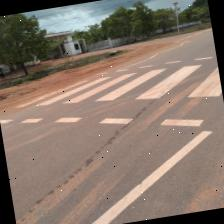crossing: (131, 62, 207, 103), (91, 66, 171, 104), (59, 71, 141, 106), (33, 75, 115, 107), (184, 66, 222, 102), (160, 113, 205, 132)
